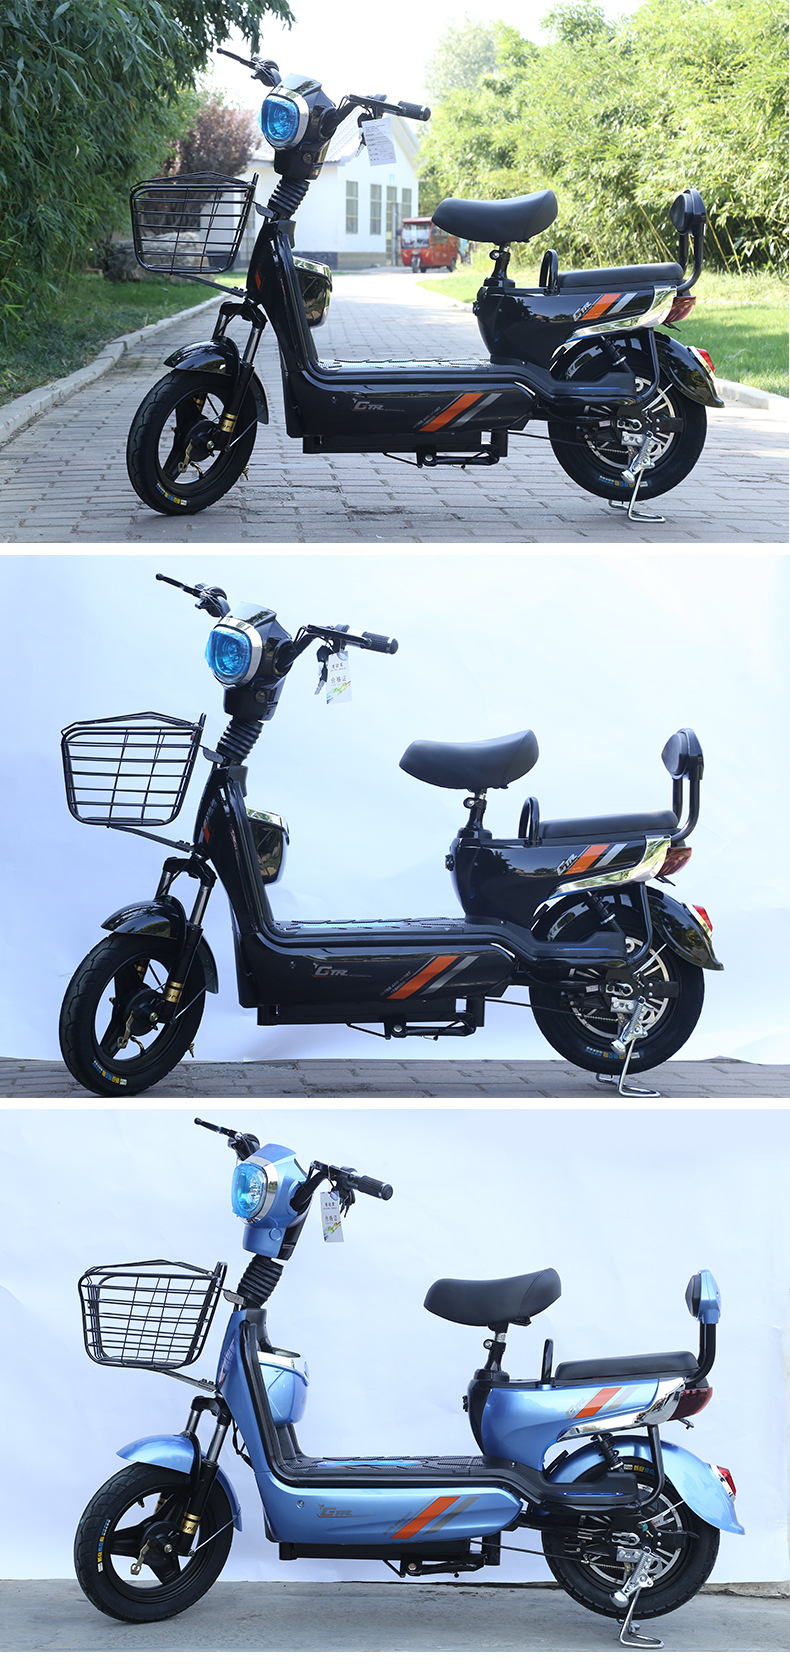电动车: (44, 565, 736, 1098), (72, 1114, 749, 1647), (110, 39, 726, 523)
